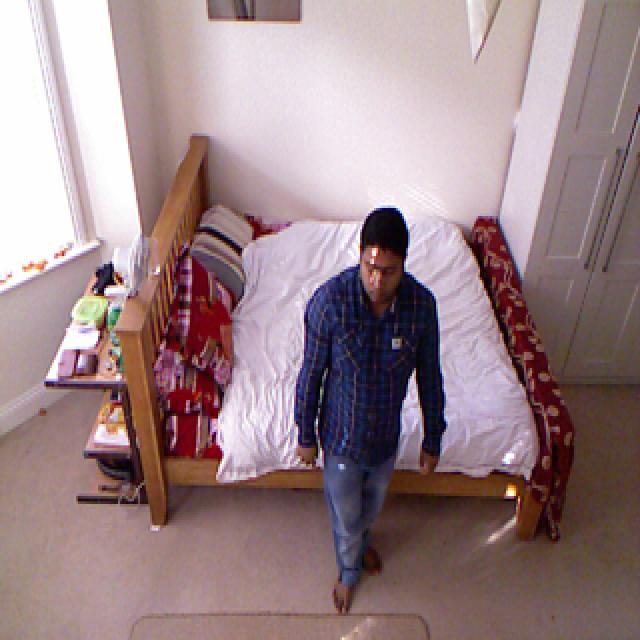standing: (294, 207, 445, 614)
